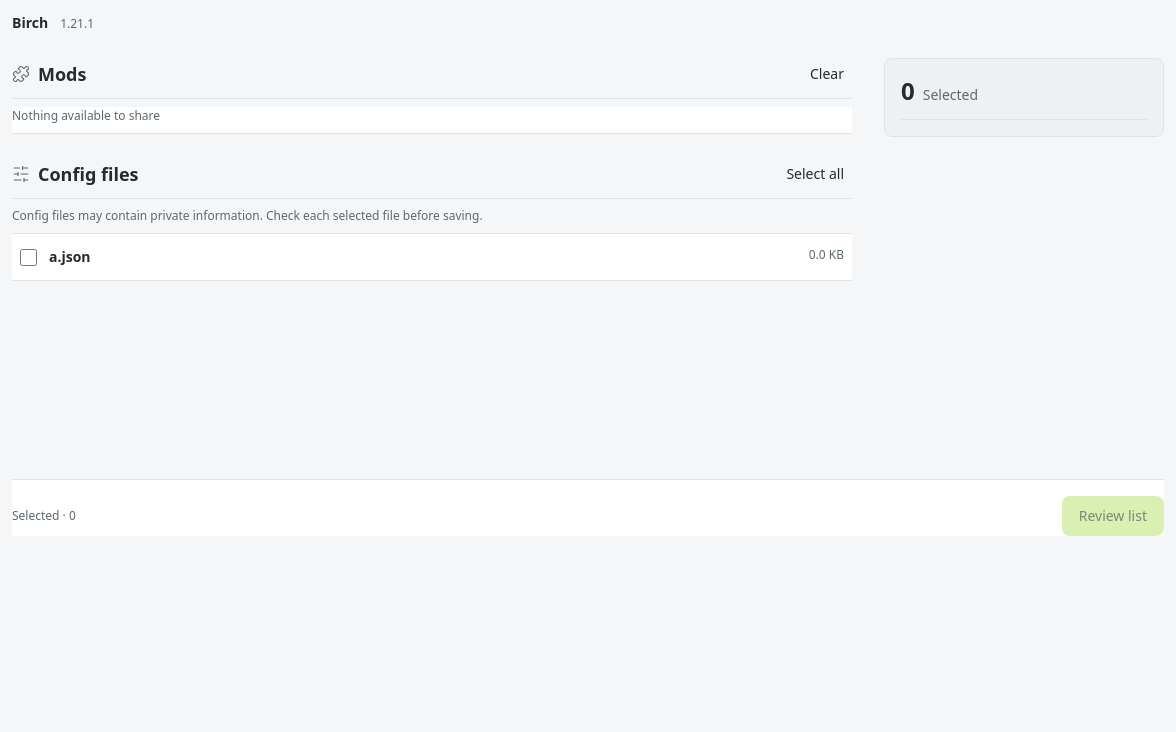
shows selected config text before saving
Step 1. Click the checkbox labelled "a.json 0.0 KB" → (28, 257), box top-left (20, 248), bottom-right (37, 266)
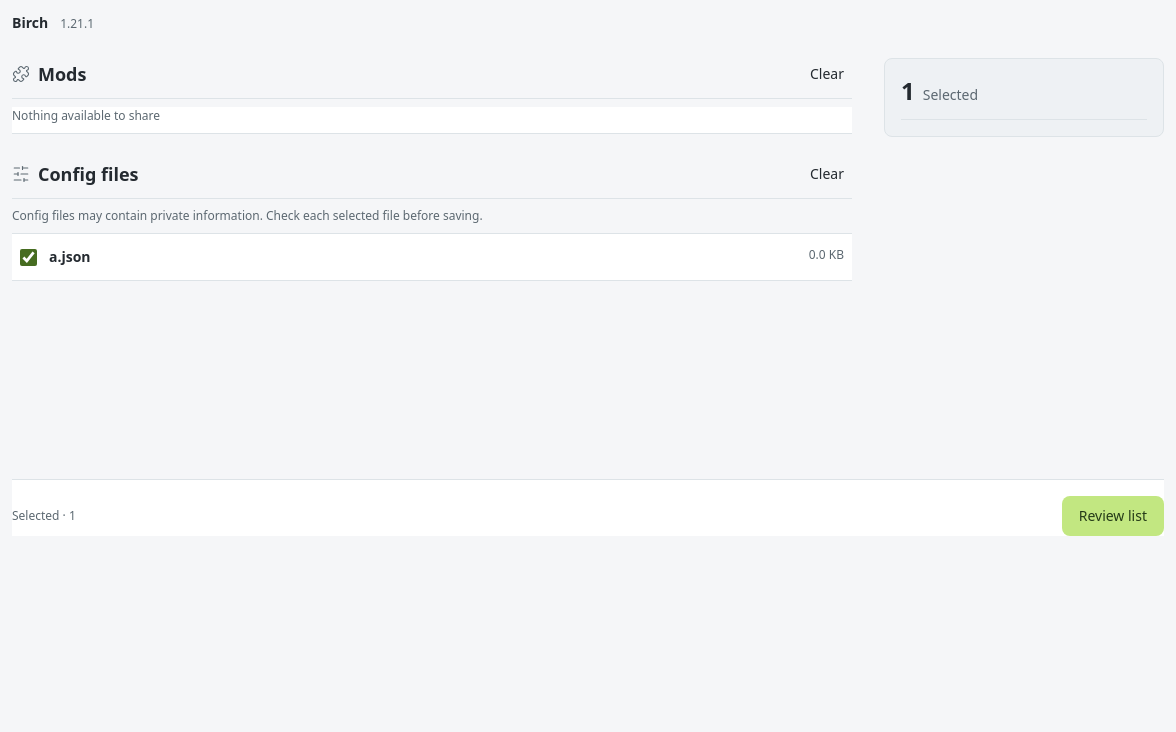
Step 2. Click the button "Review list" → (1113, 516), box top-left (1062, 496), bottom-right (1164, 536)
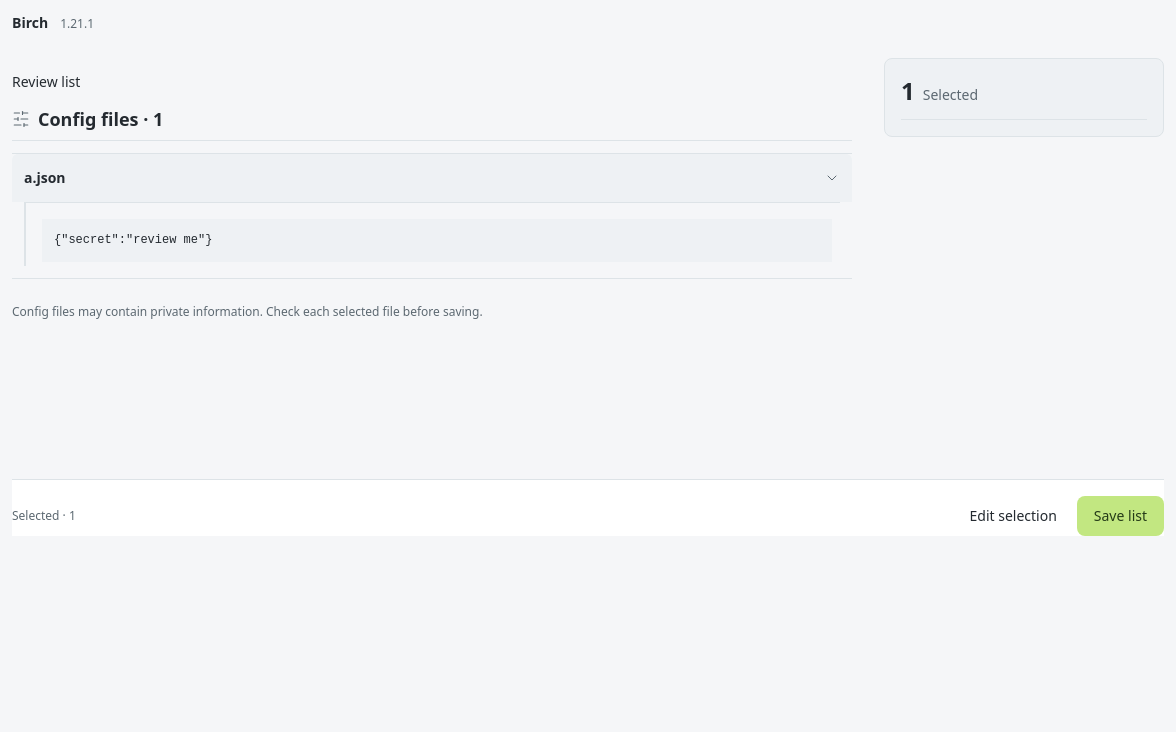
Expected: the text "{\"secret\":\"review me\"}" is shown, top-left (42, 219), bottom-right (832, 262)
